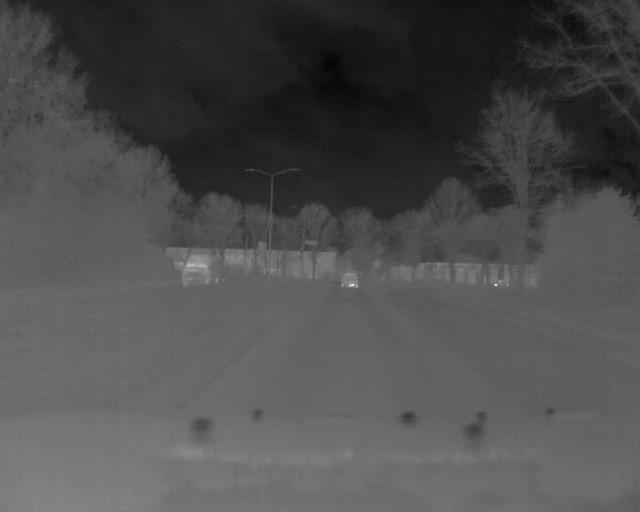car: (178, 251, 224, 289), (339, 272, 359, 292)
